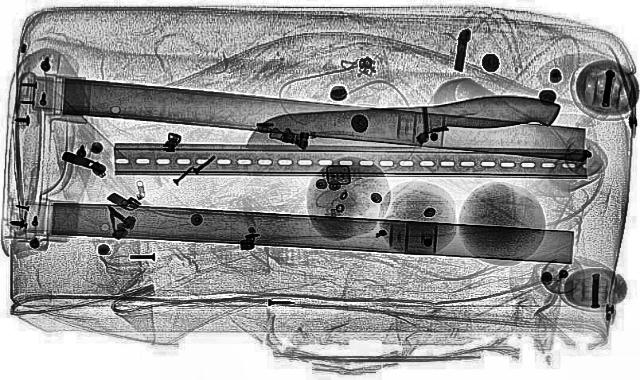Knife: (240, 90, 566, 162)
